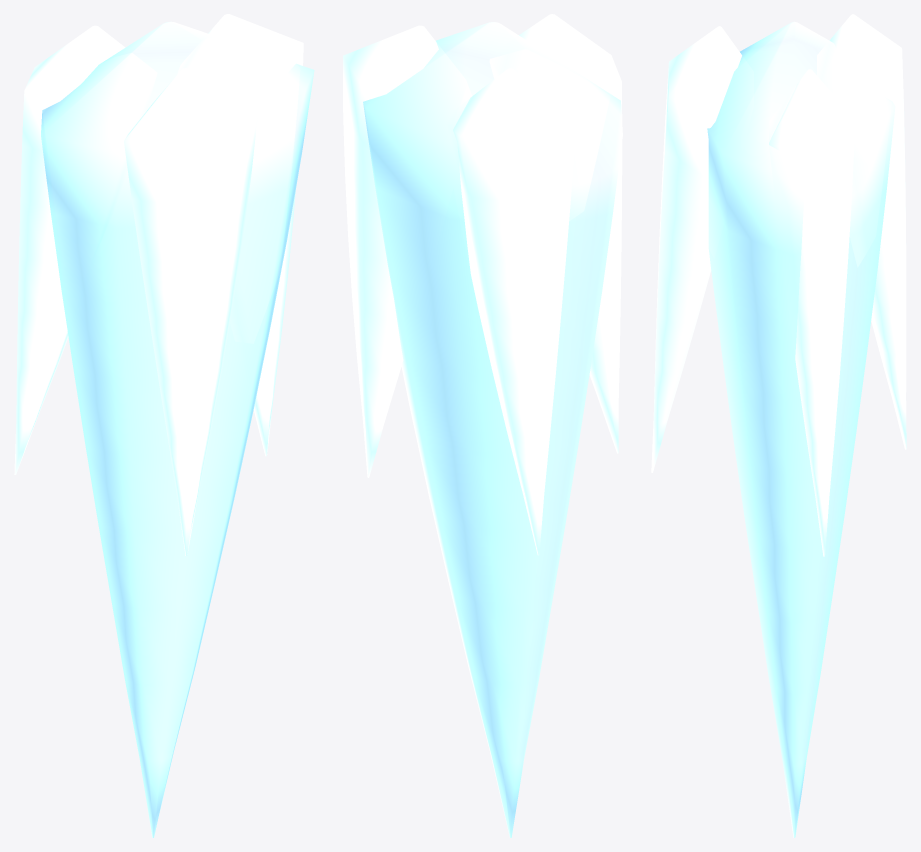
The model's file is hazard_icicle.glb.
3 renders of one model, left to right at view 1: azimuth 30°, elevation 25°; view 2: azimuth 150°, elevation 25°; view 3: azimuth 270°, elevation 25°, orthographic.
Parts seen in each view (by area): view 1: MainIcicleSpire, IceShard_2, IceShard_1, IceShard_0; view 2: MainIcicleSpire, IceShard_1, IceShard_0, IceShard_2; view 3: MainIcicleSpire, IceShard_0, IceShard_2, IceShard_1.
Boxes of the visible parts, x1,y1,x2,y2 form: MainIcicleSpire: (41,21,314,837); IceShard_2: (124,68,257,555); IceShard_1: (14,25,125,474); IceShard_0: (208,14,303,456); MainIcicleSpire: (363,22,622,837); IceShard_1: (453,68,575,555); IceShard_0: (343,25,438,477); IceShard_2: (519,14,622,453); MainIcicleSpire: (707,21,895,837); IceShard_0: (769,69,854,556); IceShard_2: (651,26,741,472); IceShard_1: (829,14,906,449).
Bounding box in the file's own units: 0.654 × 1.85 × 0.5216.
